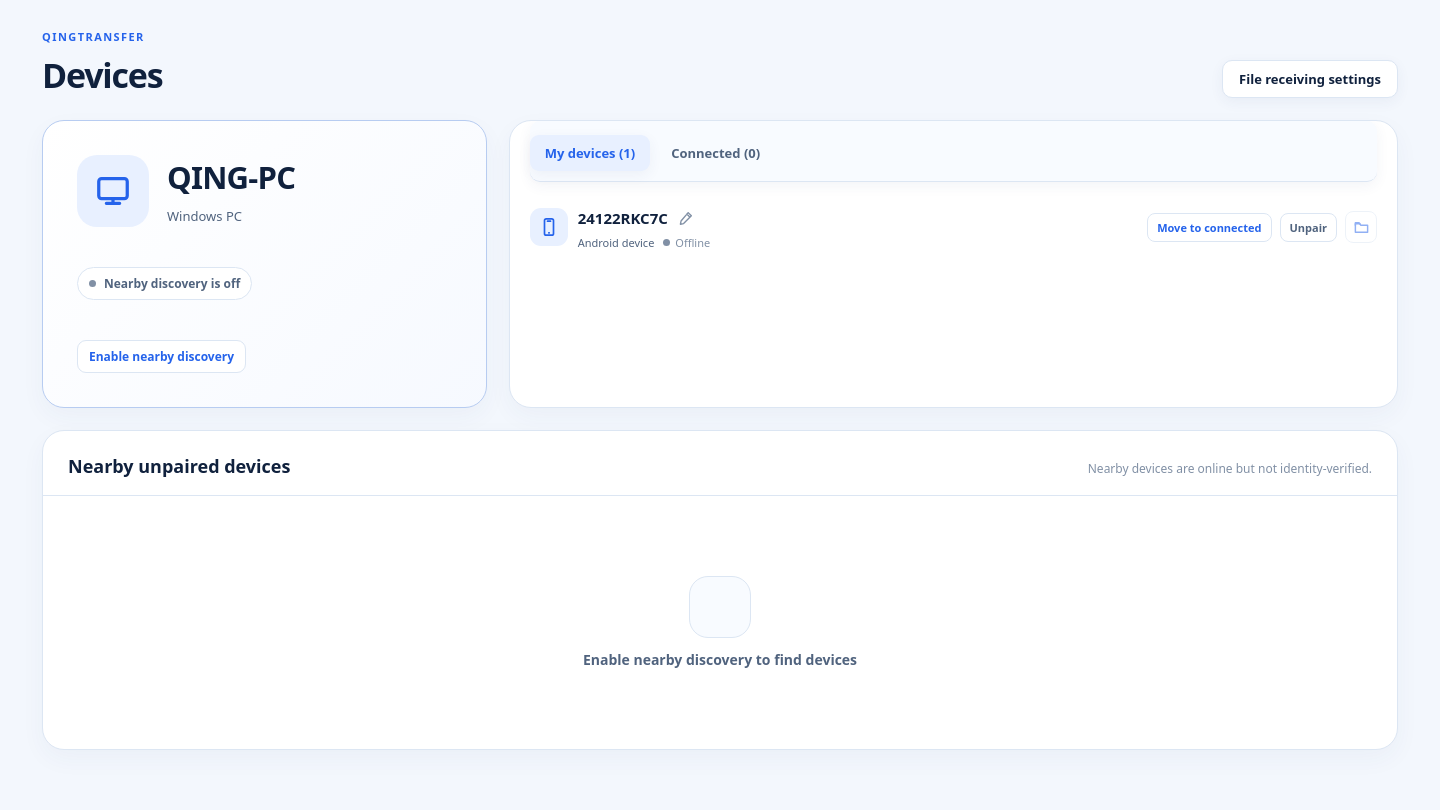
Test: DevicesPage › saves a local remark for an offline Intimate device using the project input modal
The width and height of the screenshot is (1440, 810).
Click the button with class "devices-remark-action" at (686, 218), box [673,205,700,232]
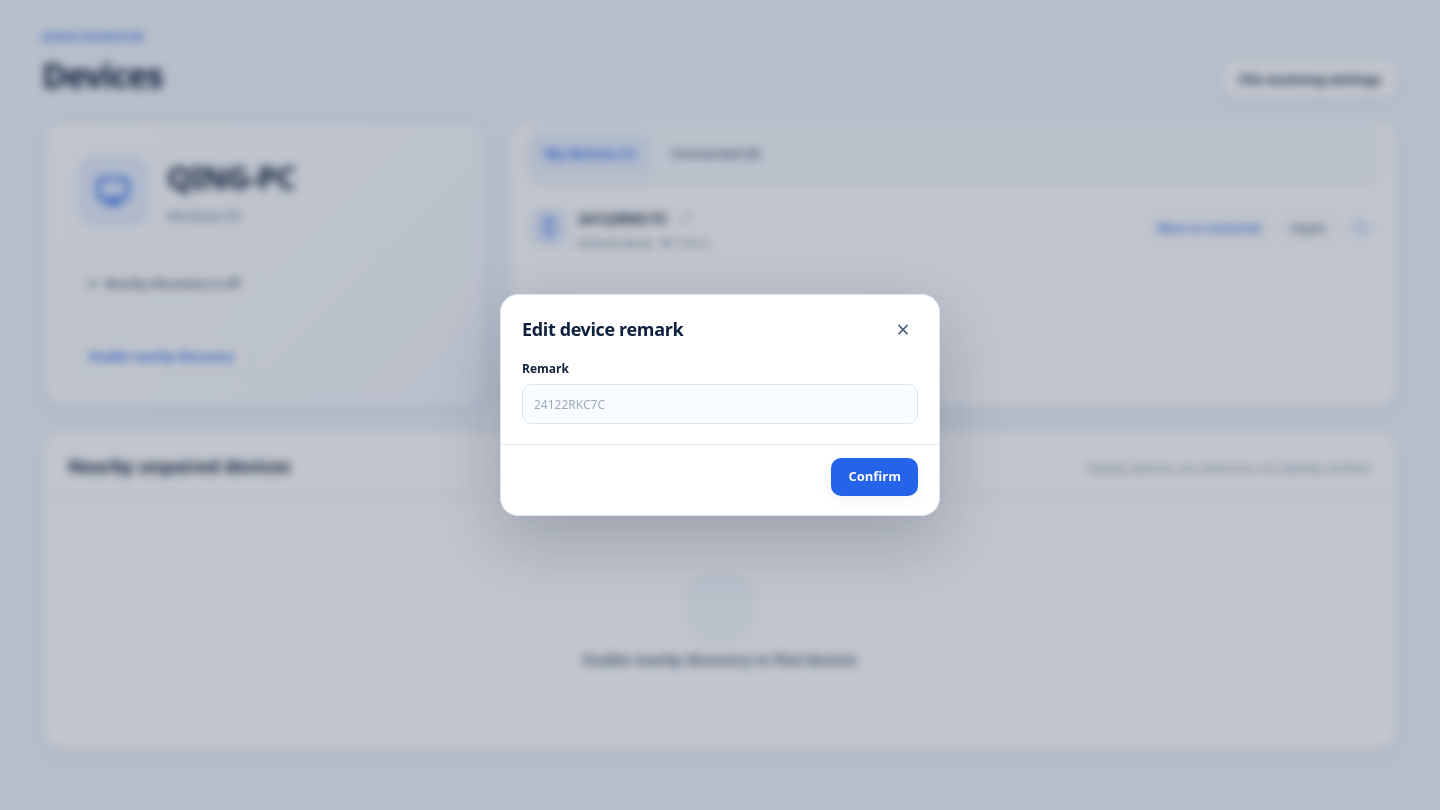
expect the heading "Edit device remark" is shown: met, box [522,317,683,341]
expect the field labelled "Remark" is empty: met
Type "  QingMo的设备  " into the field labelled "Remark" at (720, 404), box [522,384,918,424]
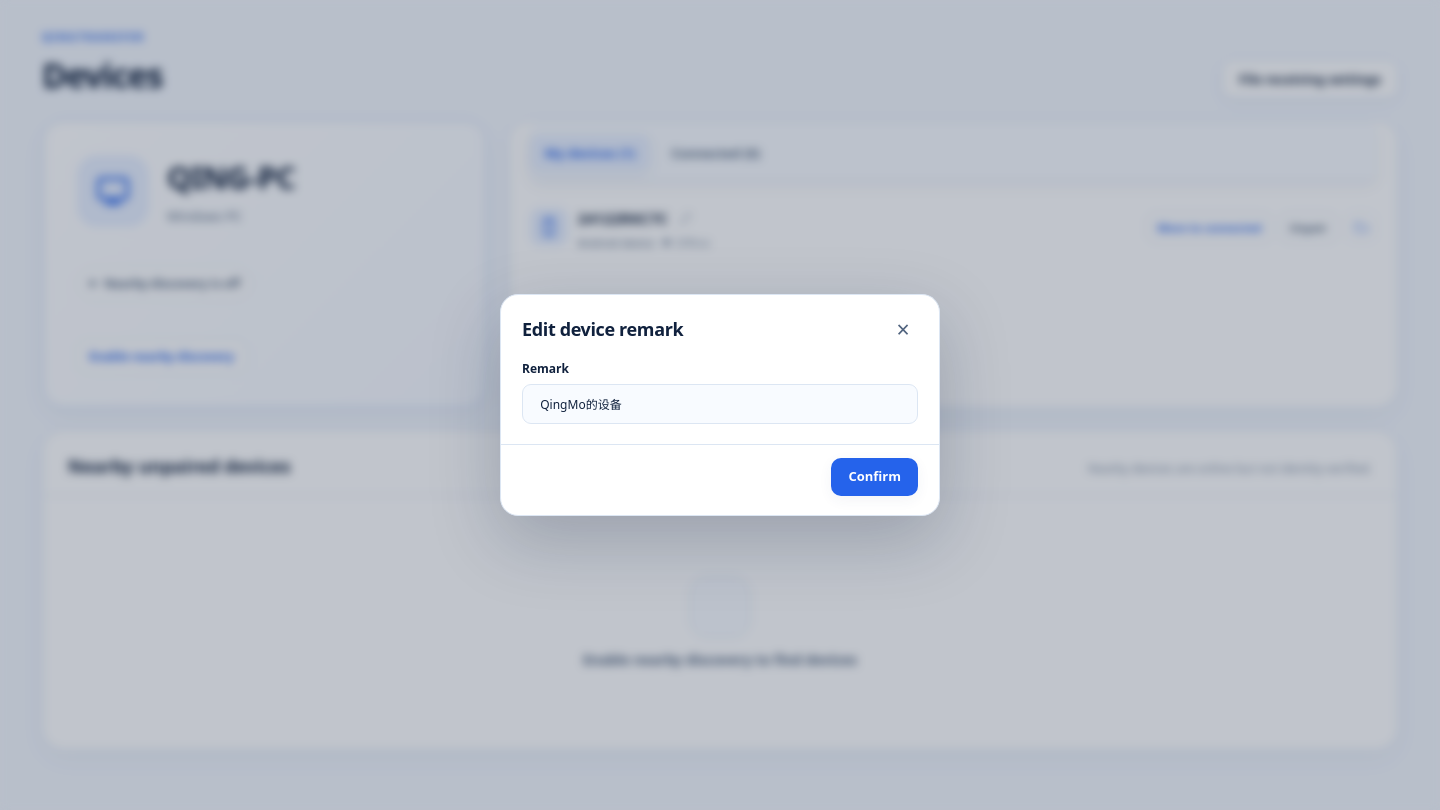
Click the button "Confirm" at (875, 477), box [832,458,918,496]
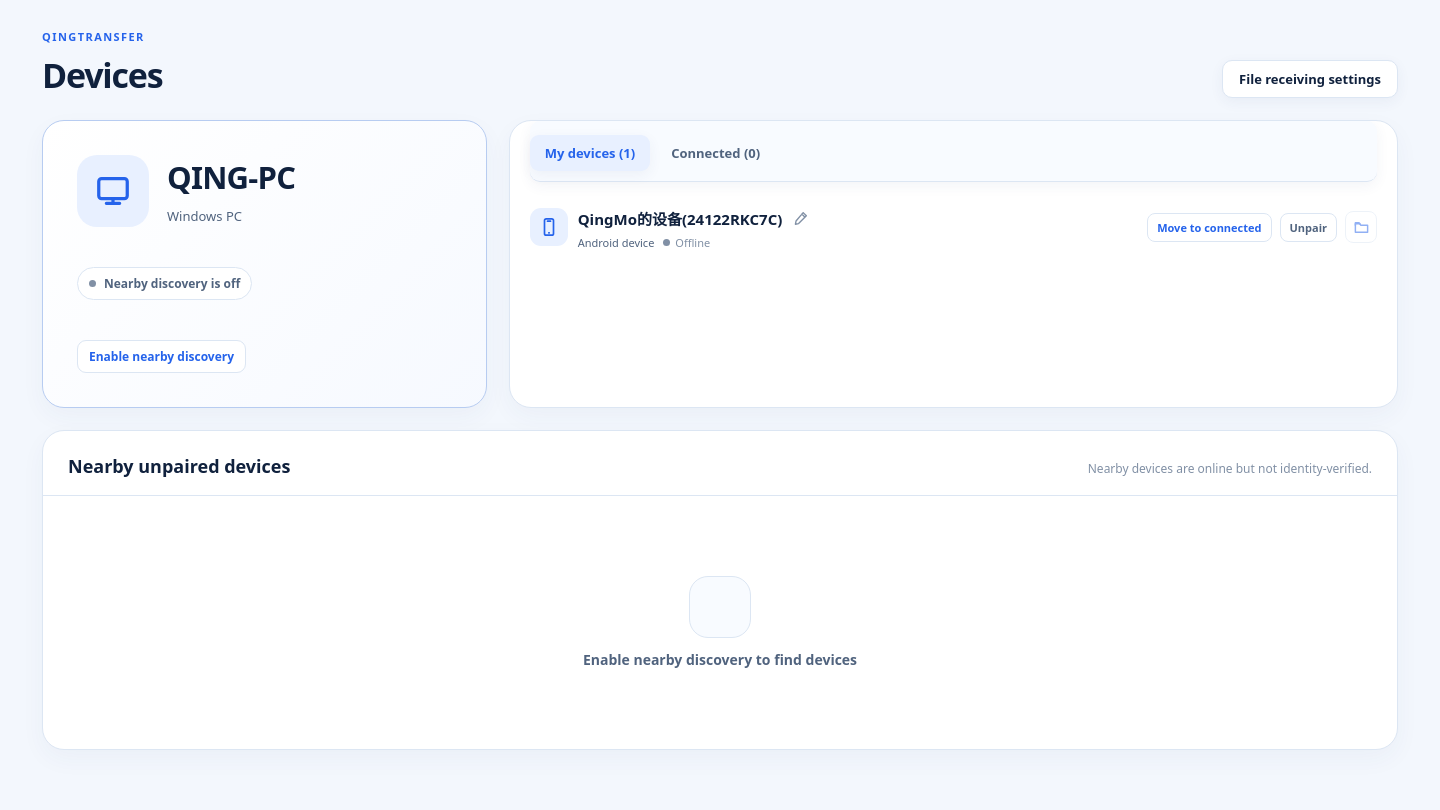
expect the text "QingMo的设备(24122RKC7C)" is shown: met, box [578,208,782,229]
expect the dialog is gone: met
